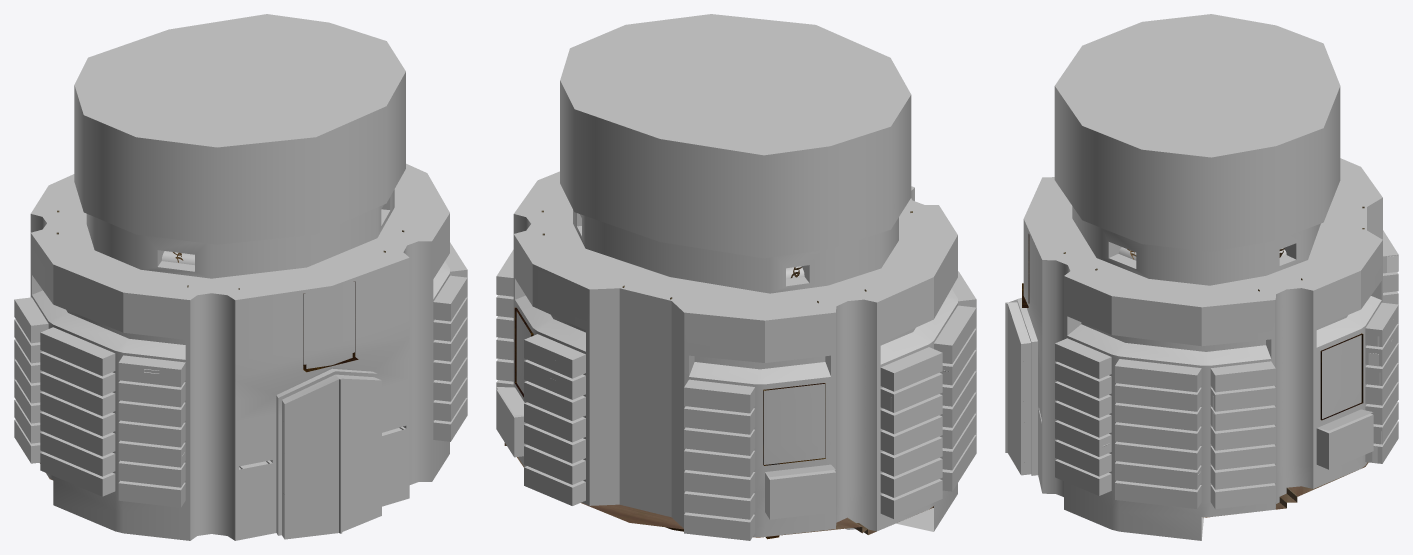
The model's file is MagicalLibrary.fbx.
3 views of the same model, side by side, from view 1: azimuth 30°, elevation 25°; view 2: azimuth 150°, elevation 25°; view 3: azimuth 270°, elevation 25° (orthographic). The views are drawn at different scales.
Parts seen in each view (by area): view 1: MagicalLibrary_Structure; view 2: MagicalLibrary_Structure, MagicalLibrary_Stairs; view 3: MagicalLibrary_Structure, MagicalLibrary_BookShelf-7, MagicalLibrary_Frame1, MagicalLibrary_Stairs.
Boxes of the visible parts, x1=… form: MagicalLibrary_Structure: x1=14, y1=14, x2=467, y2=540; MagicalLibrary_Structure: x1=496, y1=14, x2=976, y2=540; MagicalLibrary_Stairs: x1=504, y1=443, x2=933, y2=539; MagicalLibrary_Structure: x1=1005, y1=14, x2=1398, y2=540; MagicalLibrary_BookShelf-7: x1=1102, y1=255, x2=1397, y2=474; MagicalLibrary_Frame1: x1=1320, y1=333, x2=1363, y2=420; MagicalLibrary_Stairs: x1=1202, y1=462, x2=1368, y2=517.
Bounding box in the file's own units: 993 × 886 × 862.
